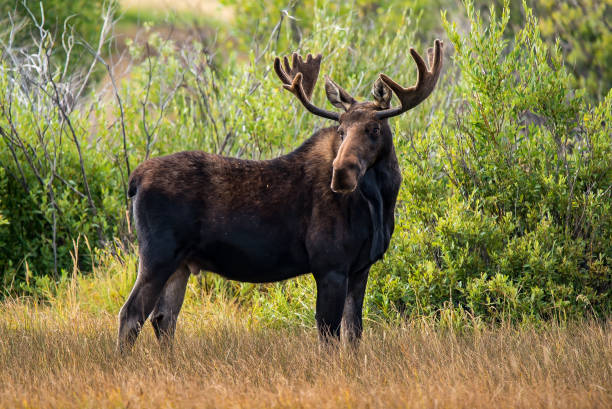moose: (114, 39, 443, 357)
